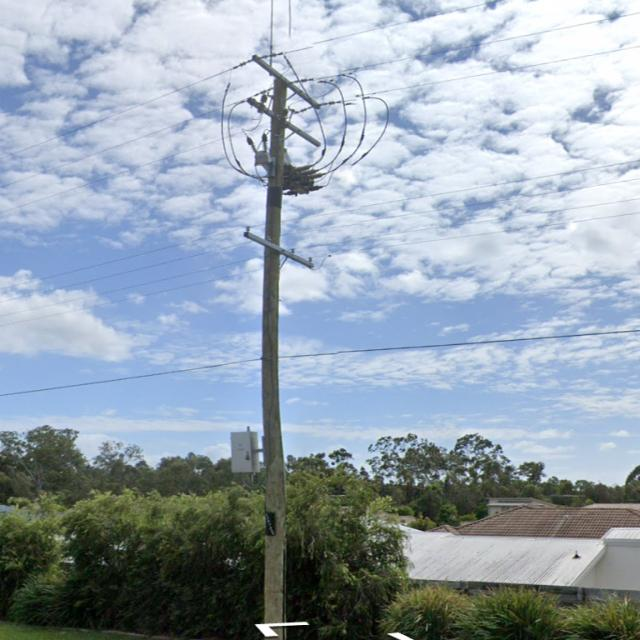HV-switch: (282, 163, 328, 197)
HV-transmission: (233, 53, 344, 113)
crossarm: (252, 54, 322, 110), (246, 98, 321, 148), (242, 232, 316, 269)
timber-pole: (261, 78, 288, 640)
